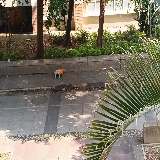fire: (58, 68, 65, 73)
